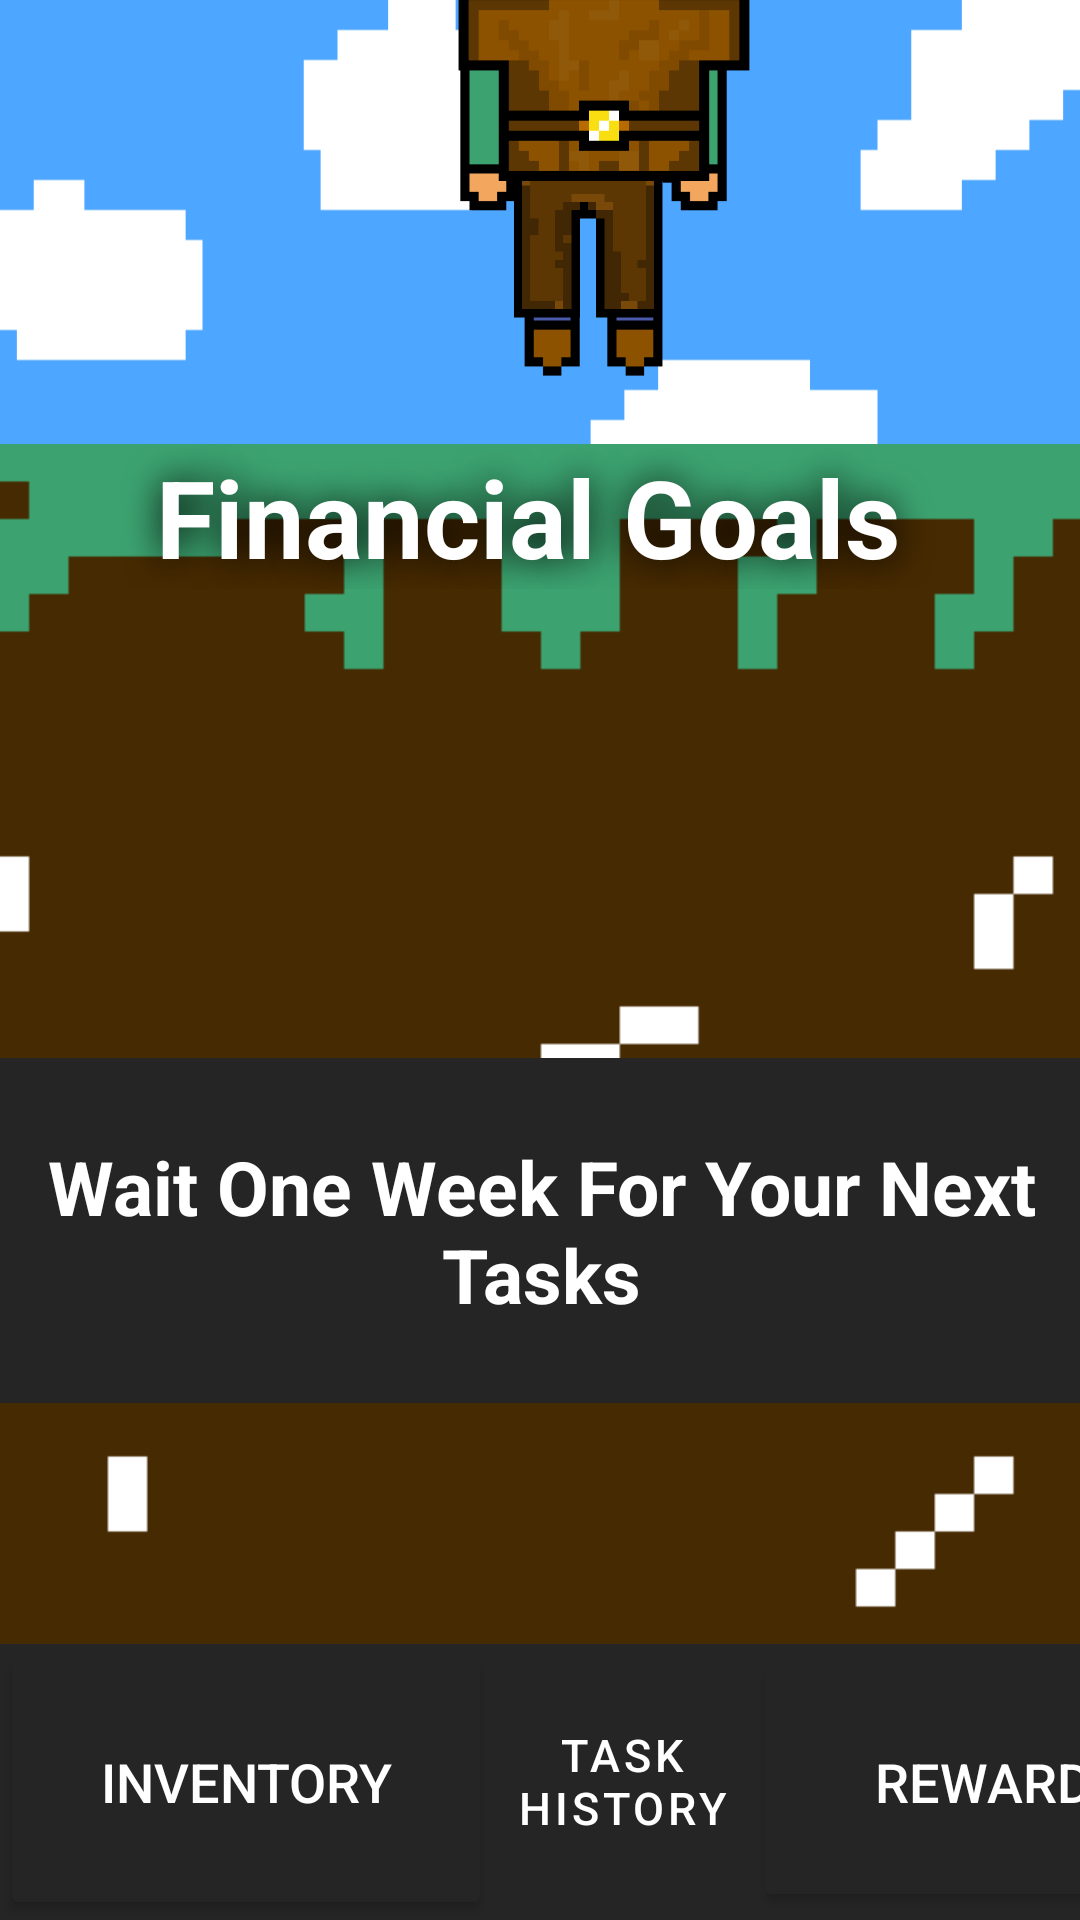

Named icons in this screenshot (1080 x 1920) and their centers, point (x, y):
pants: point (588, 235)
